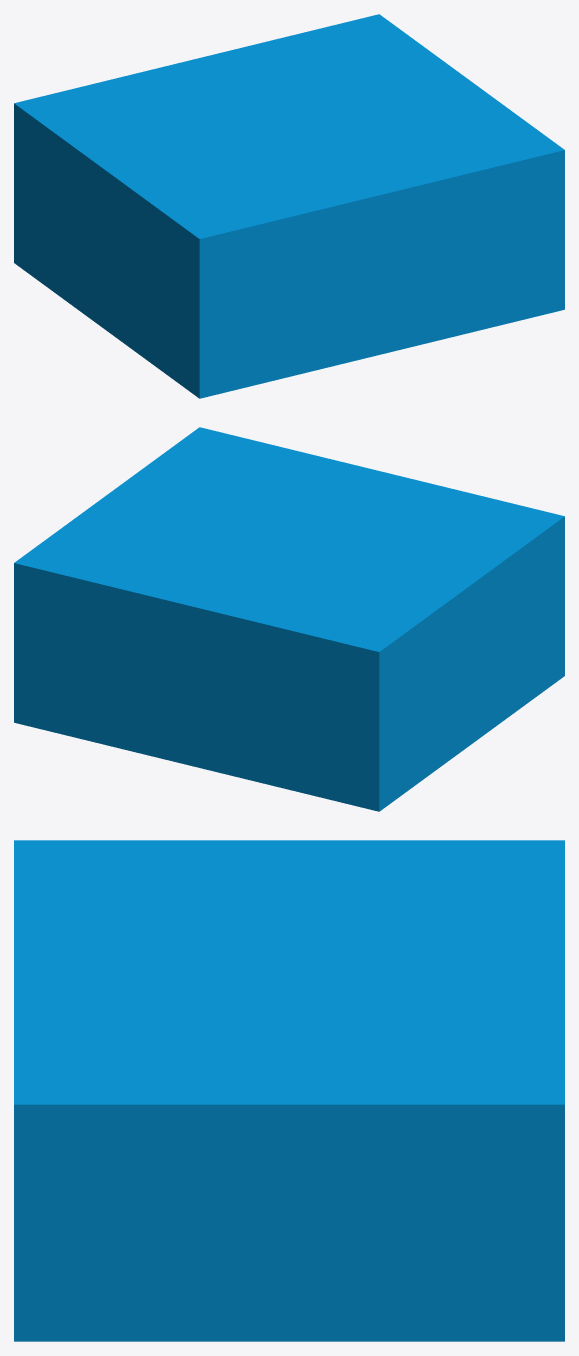
File: VR_Environment.glb
The picture shows the model from 3 angles, top to bottom: view 1: azimuth 30°, elevation 25°; view 2: azimuth 150°, elevation 25°; view 3: azimuth 270°, elevation 25°; orthographic projection. The views are drawn at different scales.
Parts seen in each view (by area): view 1: Room; view 2: Room; view 3: Room.
Part boxes in pixels (x1,y1,x2,y2): Room: (14, 14, 564, 398); Room: (14, 427, 564, 811); Room: (14, 840, 564, 1341).
Bounding box in the file's own units: 8.62 × 3.6 × 7.59.
